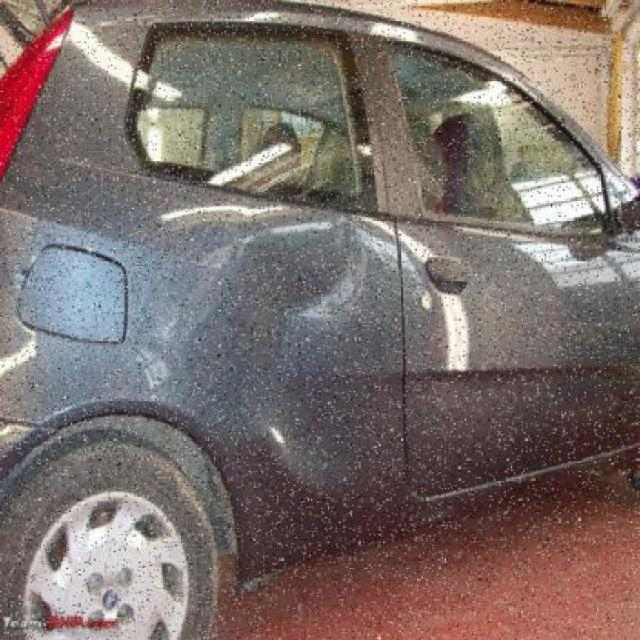quaterpanel-dent: (0, 208, 393, 466)
